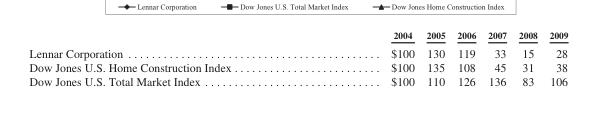table: (28, 28, 567, 87)
table column: (28, 28, 310, 87), (310, 28, 419, 87), (419, 28, 450, 87), (450, 28, 481, 87), (481, 28, 512, 87), (512, 28, 542, 87), (542, 28, 567, 87)
table column header: (28, 28, 567, 42)
table row: (28, 42, 567, 59), (28, 28, 567, 42), (28, 59, 567, 73), (28, 73, 567, 87)
